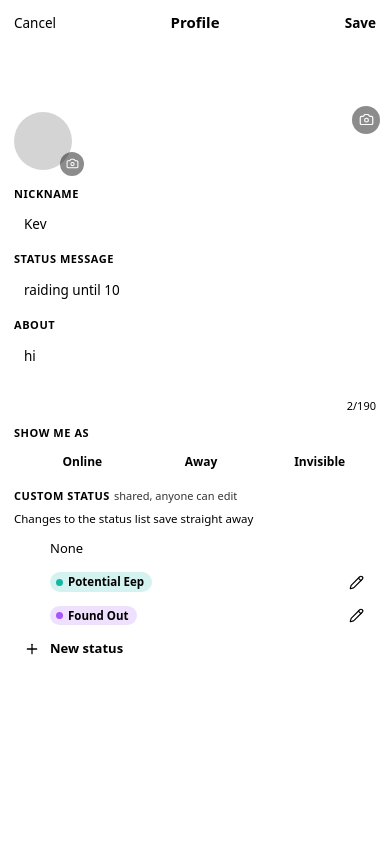
Test: ProfileEditor › reads "Saving…" and is disabled while saving
Click the button "Save" at (360, 23), box [345, 13, 376, 33]
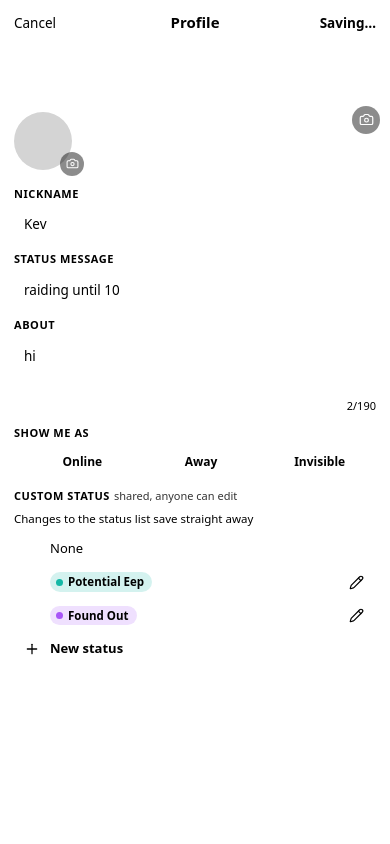
Result: the button "Saving…" is disabled at [320, 13, 376, 33]
